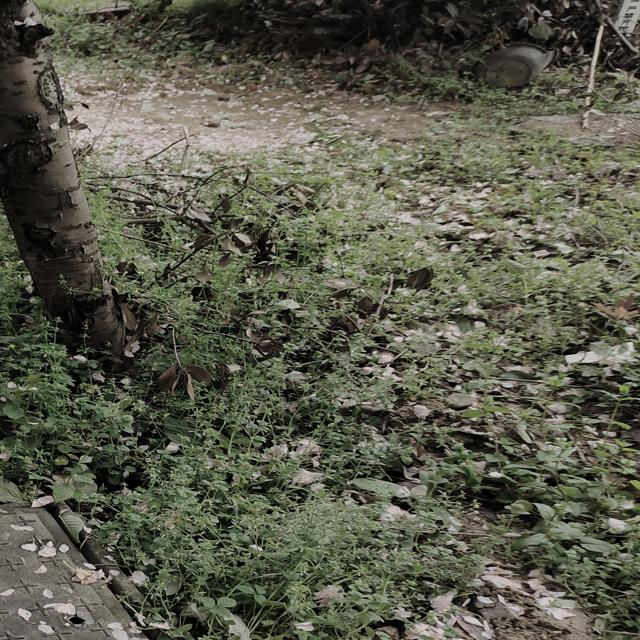uncovered: (0, 496, 244, 640)
